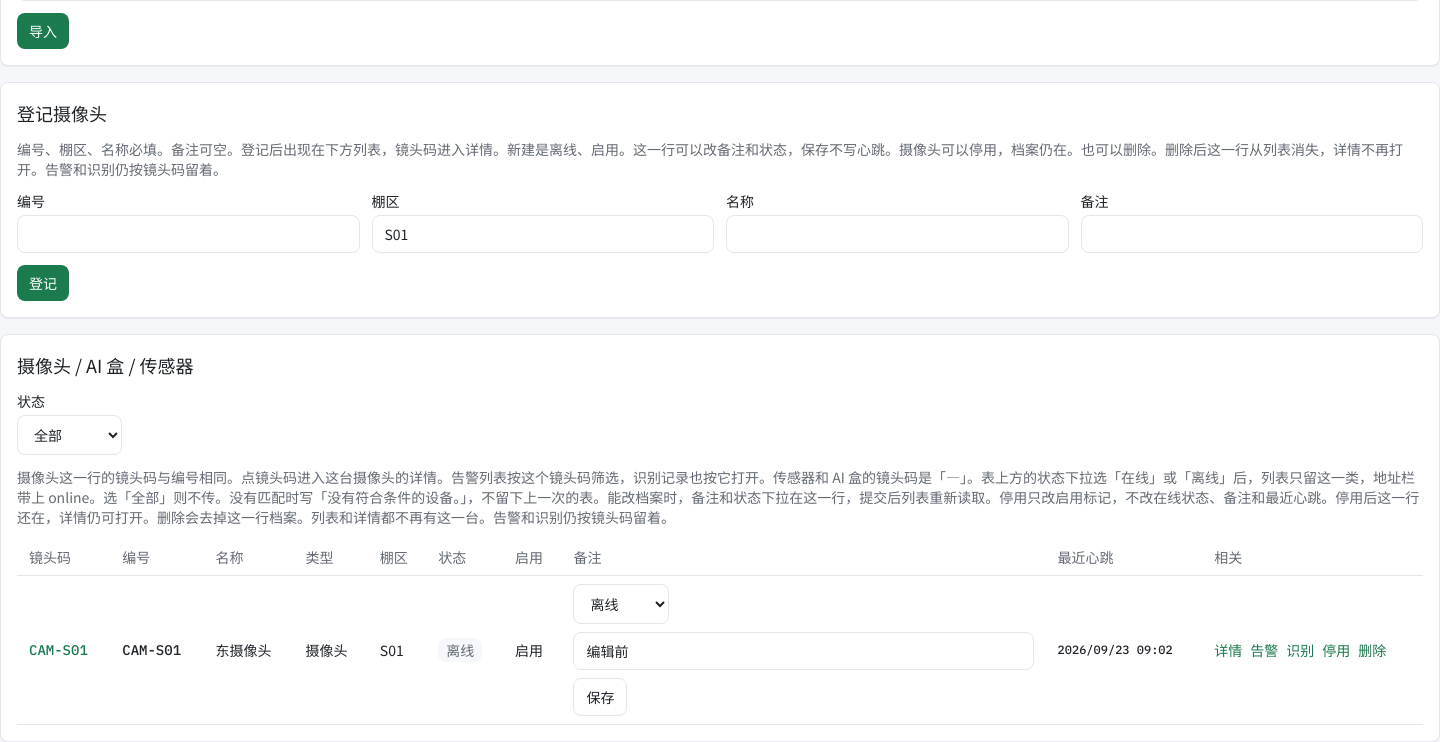
Test case: DevicesView batch import › saves a status change and shows it in the list
(page scrolled)
Expected: the cell "离线" is shown, [426,576,503,724]
Select "在线" in the dropdown named "状态 CAM-S01" at x=621, y=604, box [573,584,669,624]
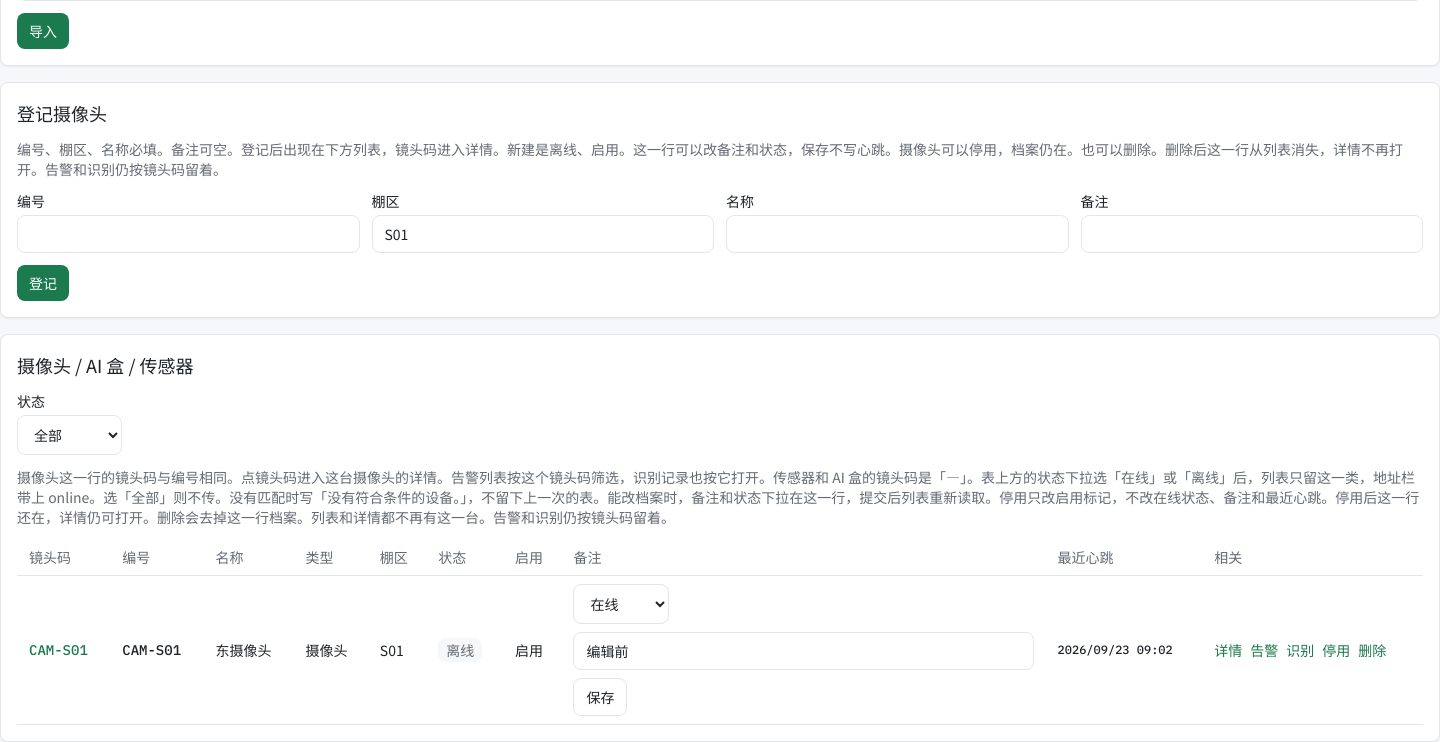
Replace the text in the field named "备注 CAM-S01" with "备注已改" at x=803, y=651, box [573,632,1034,670]
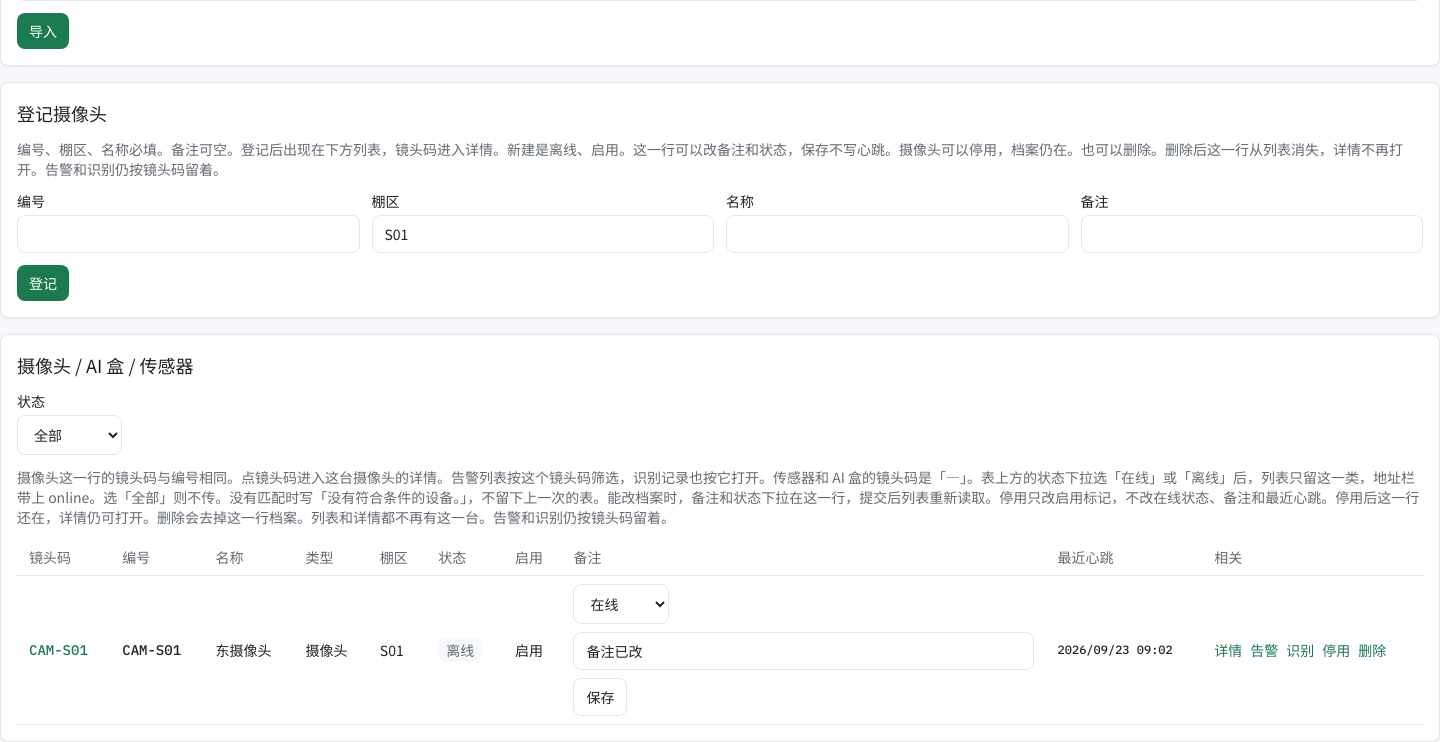
Submit the form with test id "device-edit-CAM-S01", box [573,584,1034,716]
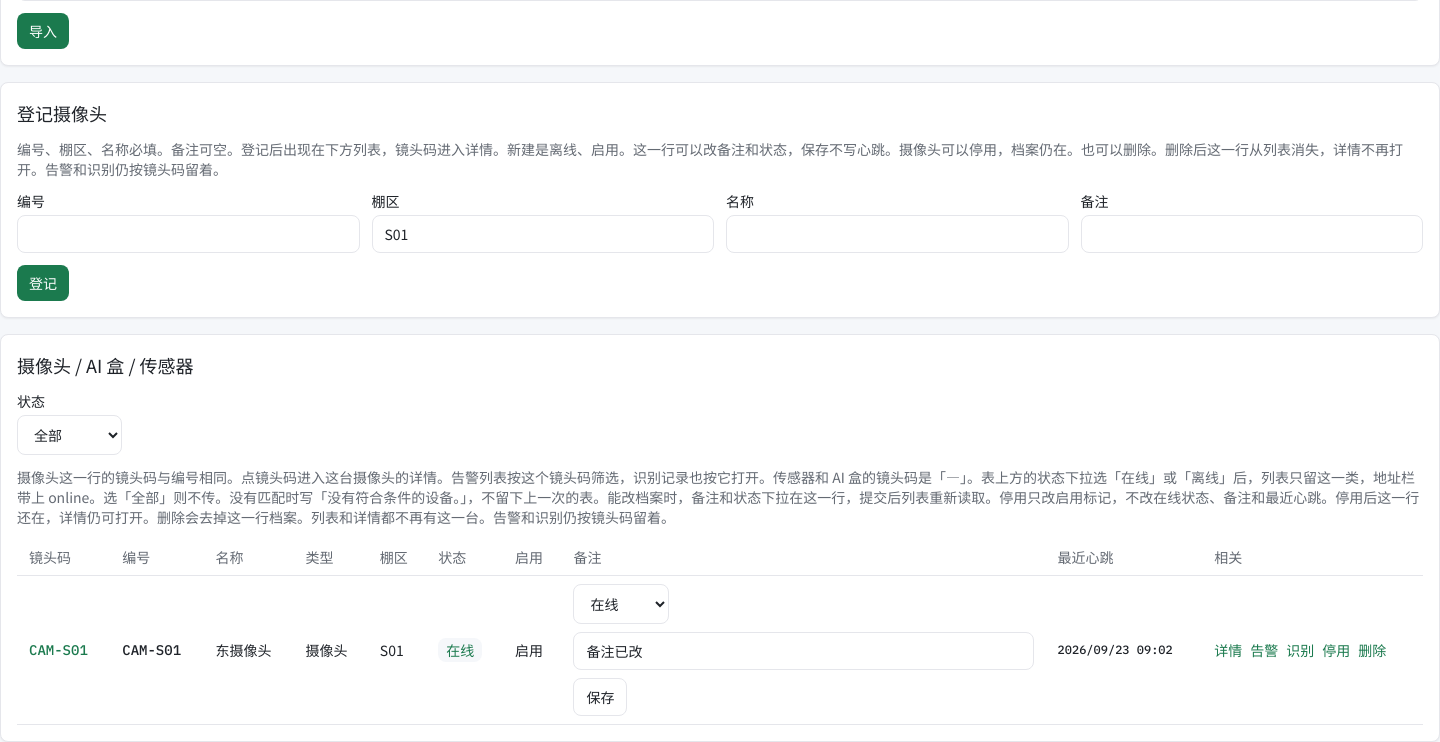
Expected: the field named "备注 CAM-S01" holds "备注已改", [573,632,1034,670]
Expected: the dropdown named "状态 CAM-S01" shows "在线", [573,584,669,624]
Expected: the cell "在线" is shown, [426,576,503,724]
